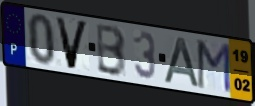0: (24, 11, 58, 67)
3: (131, 30, 157, 82)
A: (162, 35, 202, 90)
B: (96, 22, 129, 79)
M: (195, 38, 233, 96)
V: (53, 15, 91, 71)
